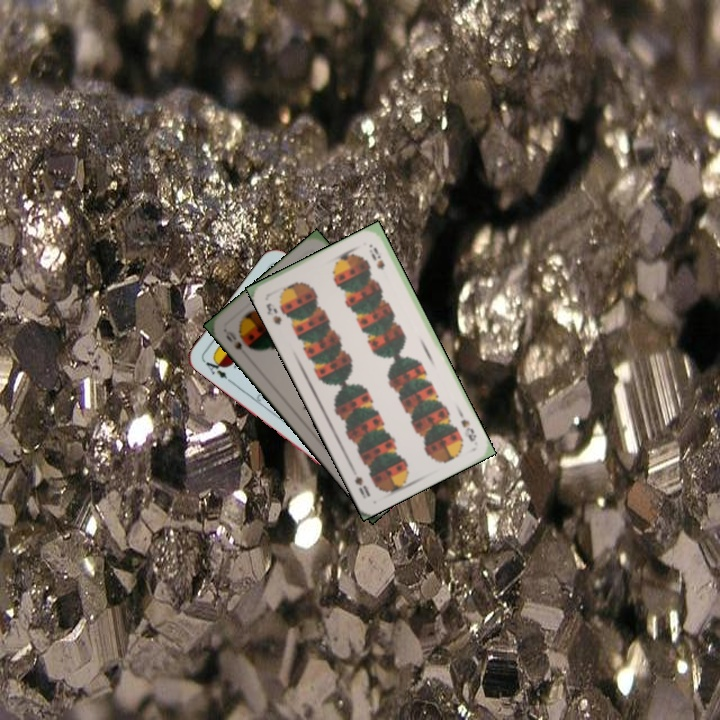EA: (199, 354, 230, 382)
S8: (455, 407, 479, 444), (262, 299, 284, 327)
SO: (221, 326, 245, 352)
